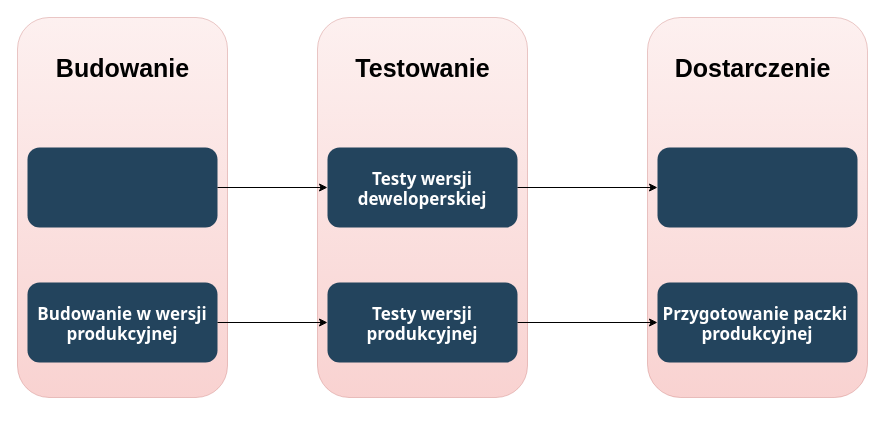
Some shapes in this 885 by 423 pixel diagram are drawn without their labels. Each missing label, with the centre of its shape:
Budowanie w wersji deweloperskiej: the point at 122,187
Przygotowanie paczki deweloperskiej: the point at 757,187
